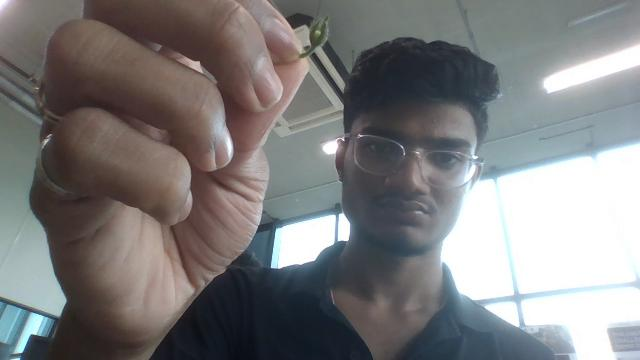Fruit Bud: (314, 15, 330, 42)
